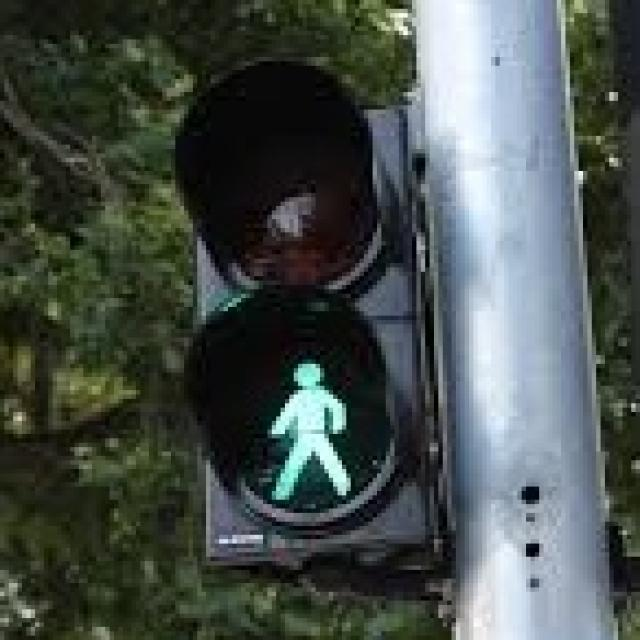geen-crossing: (241, 337, 364, 513)
